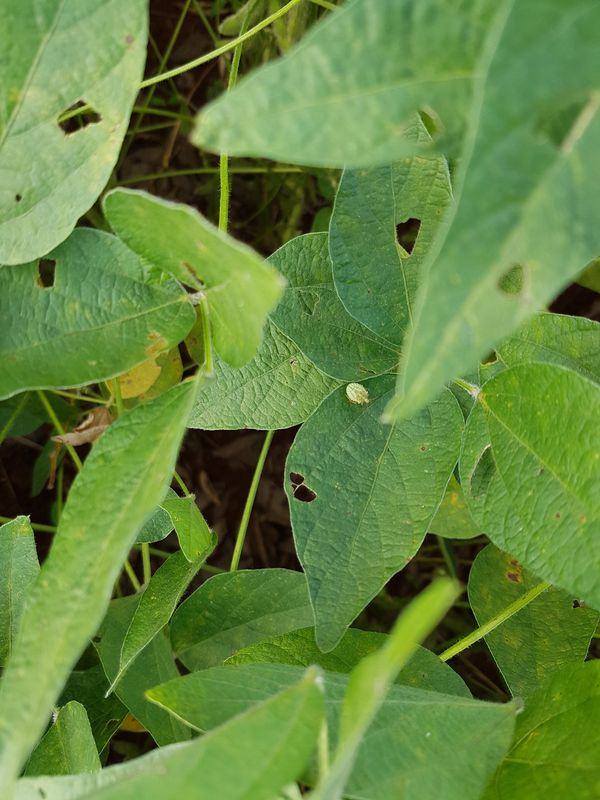Euschistus_heros_ninfa: (340, 379, 374, 410)
